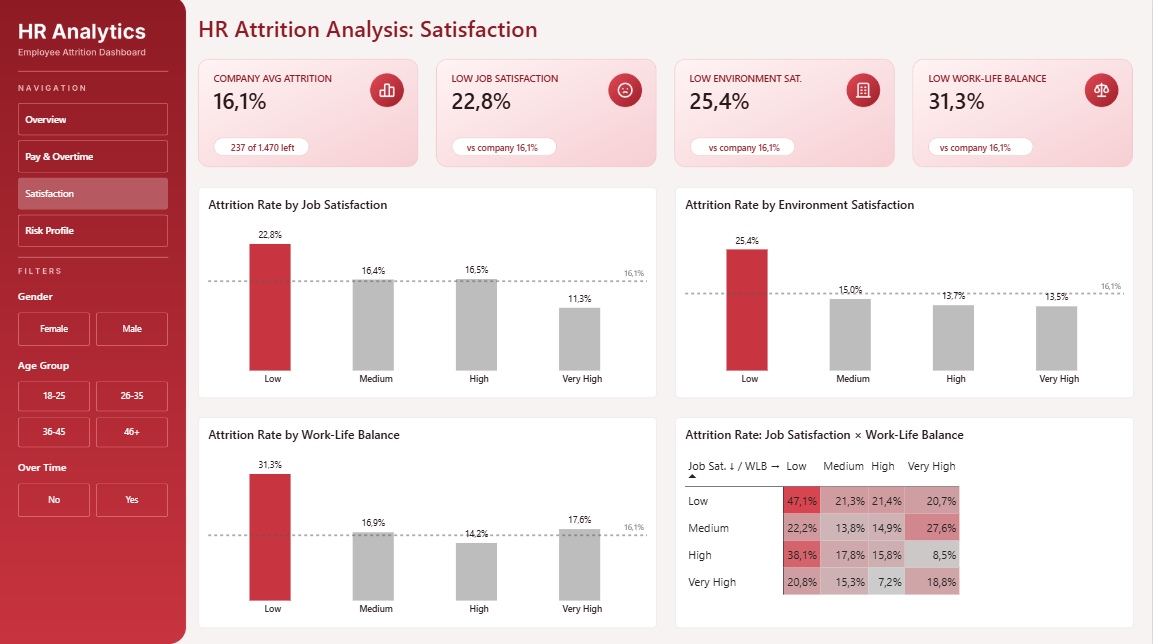

This screenshot's page, from the dashboard's own definition file:
{"tool":"powerbi","page":{"name":"Satisfaction","canvas":[1920,1080],"ordinal":2},"visuals":[{"type":"textbox","box":[330,25,1000,60],"z":0},{"type":"clusteredColumnChart","title":"Attrition Rate by Job Satisfaction","fields":{"Category":["HR.JobSatisfactionLabel"],"Y":["Measure.Attrition Rate"]},"box":[330,315,765,352],"z":1000},{"type":"clusteredColumnChart","title":"Attrition Rate by Environment Satisfaction","fields":{"Category":["HR.EnvironmentSatisfactionLabel"],"Y":["Measure.Attrition Rate"]},"box":[1125,315,765,352],"z":2000},{"type":"clusteredColumnChart","title":"Attrition Rate by Work-Life Balance","fields":{"Category":["HR.WorkLifeBalanceLabel"],"Y":["Measure.Attrition Rate"]},"box":[330,698,765,352],"z":3000},{"type":"pivotTable","title":"Αttrition Rate: Job Satisfaction × Work-Life Balance","fields":{"Columns":["HR.WorkLifeBalanceLabel"],"Rows":["HR.JobSatisfactionLabel"],"Values":["Measure.Attrition Rate"]},"box":[1125,698,765,352],"z":4000},{"type":"cardVisual","title":"TOTAL EMPLOYEES","fields":{"Data":["Measure.Company Attrition Rate"]},"box":[330,105,280,125],"z":5000},{"type":"cardVisual","fields":{"Data":["Measure.Attrition Low Job Sat"]},"box":[726.6,105,302,125.5],"z":6000},{"type":"cardVisual","fields":{"Data":["Measure.Attrition Low Environment Sat"]},"box":[1123.4,105,383.7,125.5],"z":7000},{"type":"cardVisual","fields":{"Data":["Measure.Attrition Low WLB"]},"box":[1521.7,105,367.7,125.5],"z":8000},{"type":"advancedSlicerVisual","fields":{"Values":["HR.Gender"]},"box":[30,485,250,95],"z":9000},{"type":"advancedSlicerVisual","title":"Age Group","fields":{"Values":["HR.AgeGroup"]},"box":[30,600,250,150],"z":10000},{"type":"advancedSlicerVisual","title":"Over Time","fields":{"Values":["HR.OverTime"]},"box":[30,770,250,95],"z":11000},{"type":"cardVisual","title":"TOTAL EMPLOYEES","fields":{"Data":["Measure.Ref Rate"]},"box":[356,234,220,30],"z":12000},{"type":"cardVisual","title":"TOTAL EMPLOYEES","fields":{"Data":["Measure.Ref vs Company"]},"box":[1537.8,233.4,154.7,30.6],"z":13000},{"type":"cardVisual","title":"TOTAL EMPLOYEES","fields":{"Data":["Measure.Ref vs Company"]},"box":[1153.3,233.3,176.7,30],"z":14000},{"type":"cardVisual","title":"TOTAL EMPLOYEES","fields":{"Data":["Measure.Ref vs Company"]},"box":[749.9,233.4,220,30],"z":15000},{"type":"pageNavigator","box":[30,175,250,240],"z":16000}]}

Visuals, with their boxes on the page's 1920x1080 design canvas (x1, y1, x2, y2). These are canvas units, not pixel positions in the 1153x644 screenshot, which may show the page scaled, cropped or inside an application window:
textbox: x1=330, y1=25, x2=1330, y2=85
"Attrition Rate by Job Satisfaction" clusteredColumnChart: x1=330, y1=315, x2=1095, y2=667
"Attrition Rate by Environment Satisfaction" clusteredColumnChart: x1=1125, y1=315, x2=1890, y2=667
"Attrition Rate by Work-Life Balance" clusteredColumnChart: x1=330, y1=698, x2=1095, y2=1050
"Αttrition Rate: Job Satisfaction × Work-Life Balance" pivotTable: x1=1125, y1=698, x2=1890, y2=1050
"TOTAL EMPLOYEES" cardVisual: x1=330, y1=105, x2=610, y2=230
cardVisual - Measure.Attrition Low Job Sat: x1=727, y1=105, x2=1029, y2=230
cardVisual - Measure.Attrition Low Environment Sat: x1=1123, y1=105, x2=1507, y2=230
cardVisual - Measure.Attrition Low WLB: x1=1522, y1=105, x2=1889, y2=230
advancedSlicerVisual - HR.Gender: x1=30, y1=485, x2=280, y2=580
"Age Group" advancedSlicerVisual: x1=30, y1=600, x2=280, y2=750
"Over Time" advancedSlicerVisual: x1=30, y1=770, x2=280, y2=865
"TOTAL EMPLOYEES" cardVisual: x1=356, y1=234, x2=576, y2=264
"TOTAL EMPLOYEES" cardVisual: x1=1538, y1=233, x2=1692, y2=264
"TOTAL EMPLOYEES" cardVisual: x1=1153, y1=233, x2=1330, y2=263
"TOTAL EMPLOYEES" cardVisual: x1=750, y1=233, x2=970, y2=263
pageNavigator: x1=30, y1=175, x2=280, y2=415
